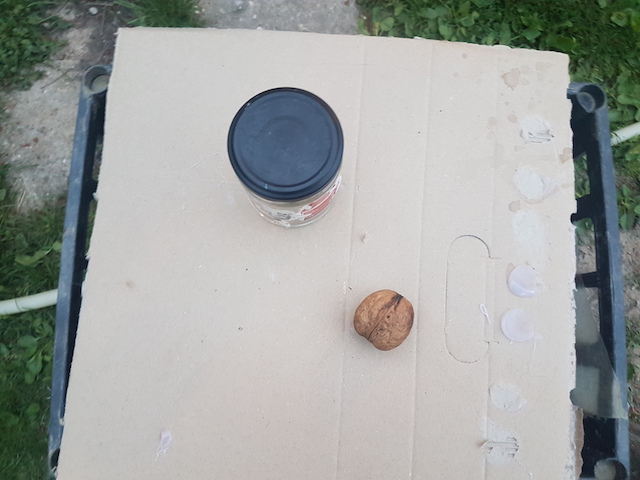nut: (353, 288, 415, 352)
recipient: (227, 84, 344, 201)
